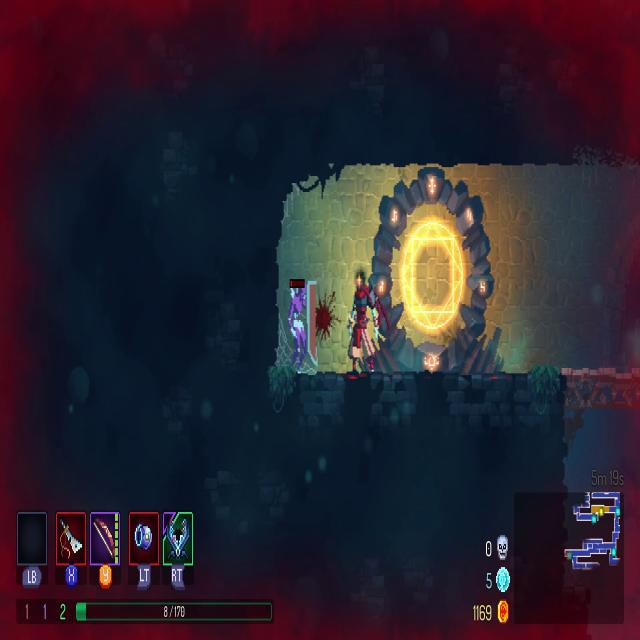agents: (347, 279, 378, 381)
enemy_purple_shield: (286, 278, 317, 372)
wood_floor: (562, 372, 640, 416)
